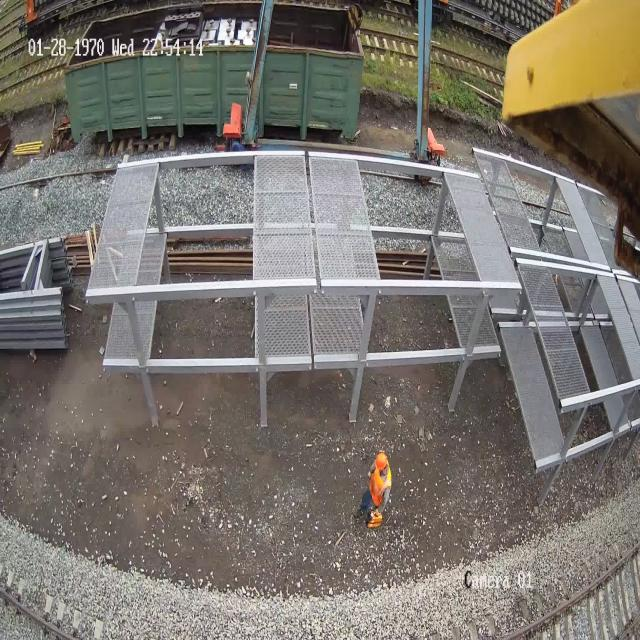Helmet: (375, 452, 388, 474)
Person: (366, 451, 392, 528)
